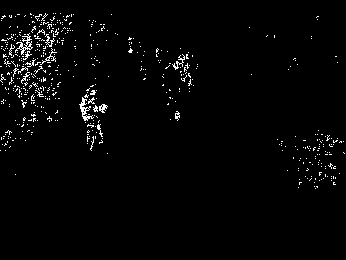person: (77, 82, 112, 157)
